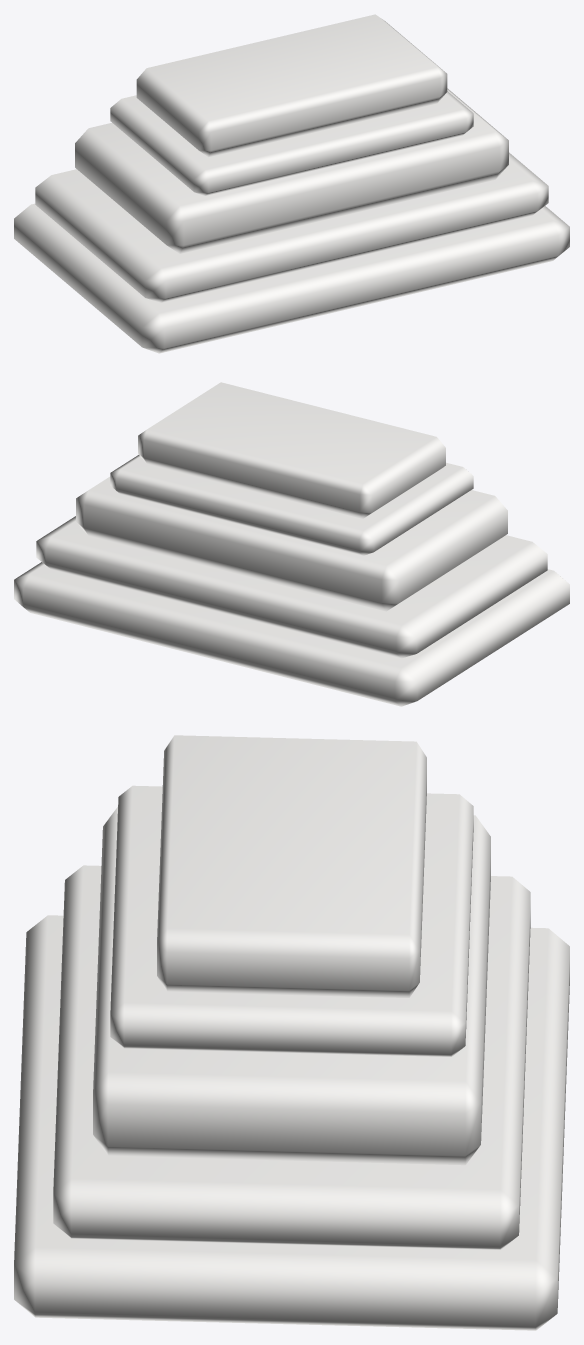
File: Towel_2.glb
3 views of the same model, one above another, from view 1: azimuth 30°, elevation 25°; view 2: azimuth 150°, elevation 25°; view 3: azimuth 270°, elevation 25° (orthographic). The views are drawn at different scales.
Visible parts, largest first — view 1: Towel_2; view 2: Towel_2; view 3: Towel_2.
Boxes of the visible parts, x1=… form: Towel_2: x1=14, y1=14, x2=569, y2=353; Towel_2: x1=14, y1=382, x2=569, y2=706; Towel_2: x1=14, y1=735, x2=569, y2=1330.
Size of the model in its own units: 0.4041 by 0.163 by 0.2541.
Materials: 1 (1 with a texture image).
